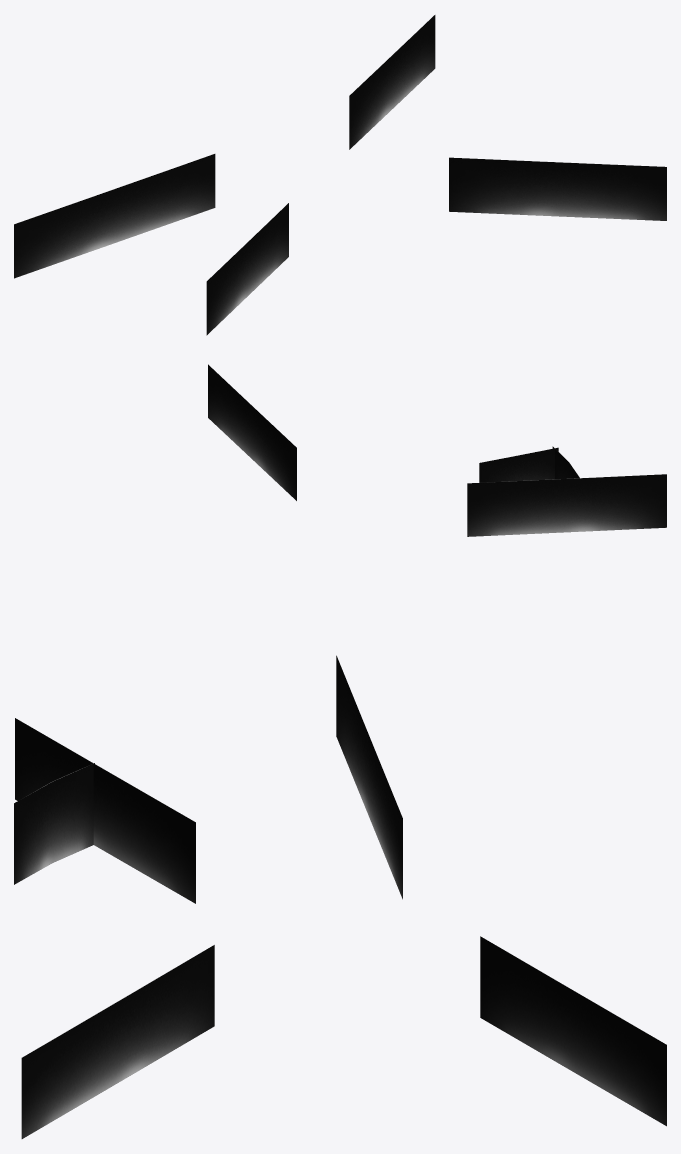
Rendered from UpoSpace_shine.FBX.
3 views of the same model, one above another, from view 1: azimuth 30°, elevation 25°; view 2: azimuth 150°, elevation 25°; view 3: azimuth 270°, elevation 25° (orthographic). The views are drawn at different scales.
Parts seen in each view (by area): view 1: UpoSpace_shine; view 2: UpoSpace_shine; view 3: UpoSpace_shine.
Boxes of the visible parts, <box> form: UpoSpace_shine: <box>14,15,666,335</box>; UpoSpace_shine: <box>208,364,666,536</box>; UpoSpace_shine: <box>14,655,666,1138</box>.
Size of the model in its own units: 1429 by 135 by 978.
1 material, 1 textured.
